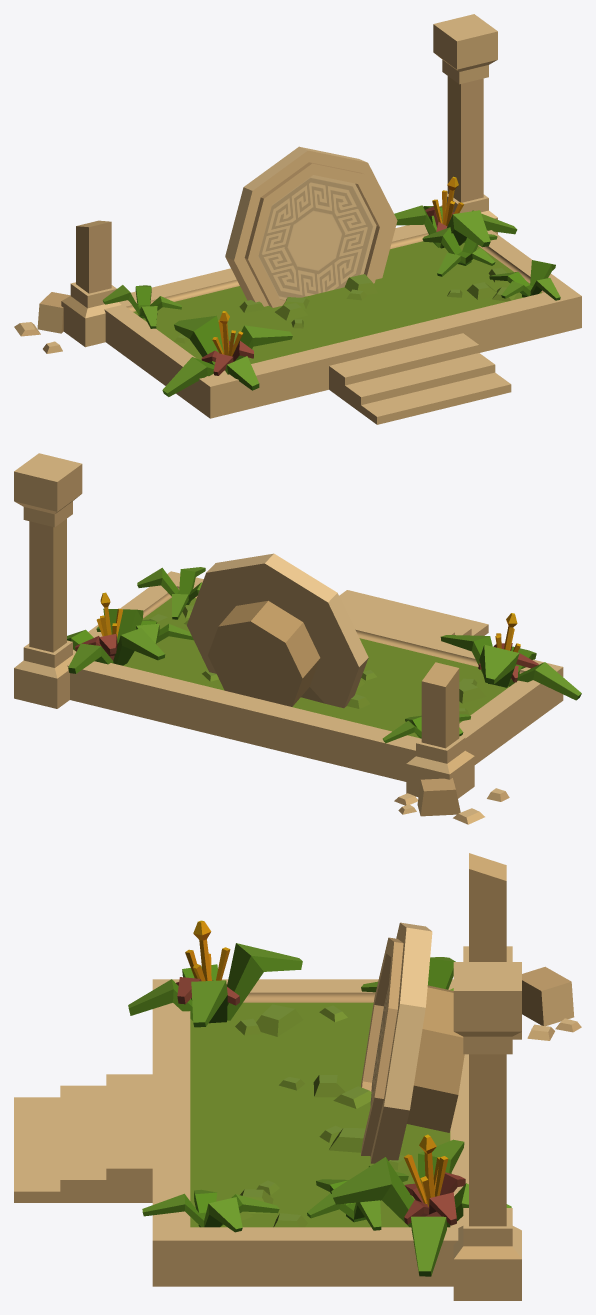
File: ST_Env_Alter_01.fbx
3 renders of one model, top to bottom at view 1: azimuth 30°, elevation 25°; view 2: azimuth 150°, elevation 25°; view 3: azimuth 270°, elevation 25°, orthographic. The views are drawn at different scales.
Parts seen in each view (by area): view 1: ST_Env_Alter_01; view 2: ST_Env_Alter_01; view 3: ST_Env_Alter_01.
Boxes of the visible parts, x1,y1,x2,y2 form: ST_Env_Alter_01: (14, 14, 581, 424); ST_Env_Alter_01: (14, 453, 581, 824); ST_Env_Alter_01: (14, 853, 581, 1300).
Size of the model in its own units: 11.14 by 5 by 8.3.
